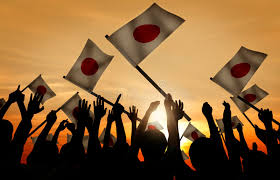Japanese Flag: (108, 2, 187, 69), (210, 45, 269, 96), (62, 37, 115, 93), (231, 80, 268, 115), (26, 74, 57, 106), (182, 122, 208, 143)
